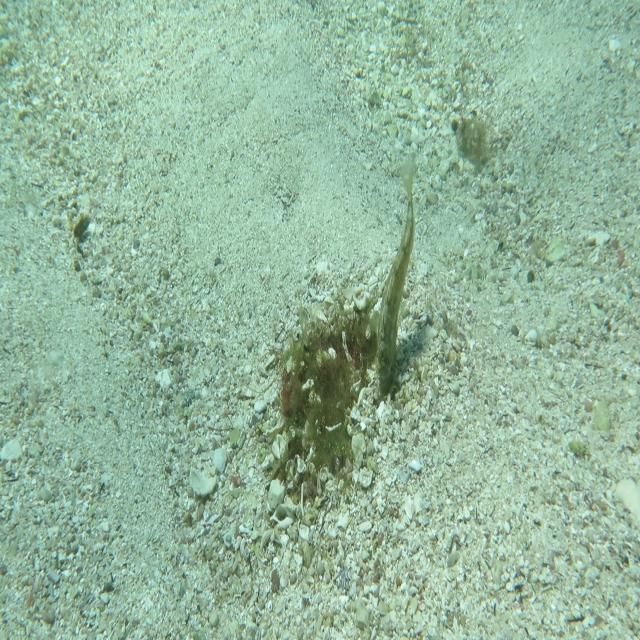NIP_IN: (374, 154, 418, 393)
core_nest: (334, 317, 374, 358)
nest: (270, 284, 406, 516)
vegetation: (456, 108, 486, 172), (68, 217, 91, 244)
